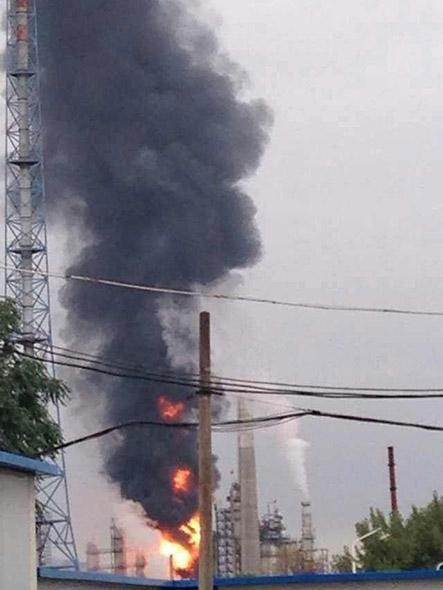fire: (156, 516, 200, 570), (156, 394, 186, 417), (172, 466, 191, 490)
